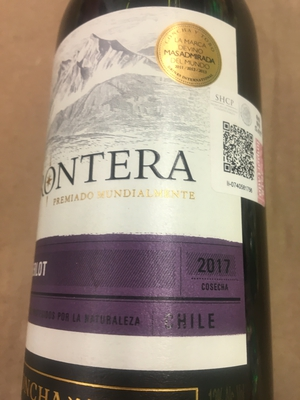frontera merlot: (24, 5, 284, 400)
